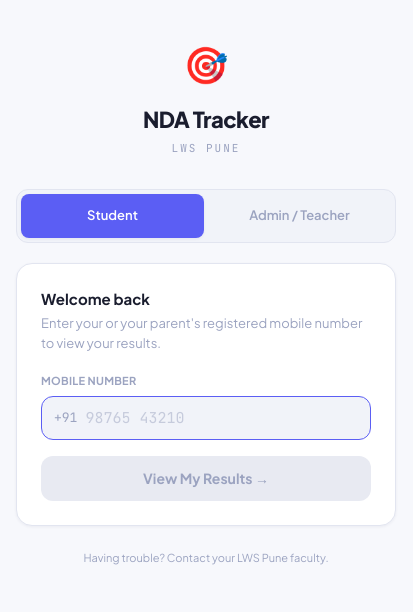
Test: LoginPage — Student tab › shows error on network failure during login
The width and height of the screenshot is (413, 612).
Type "9876543210" into the field with placeholder "98765 43210".
click(222, 418); type("9876543210")  # box [85, 407, 358, 429]
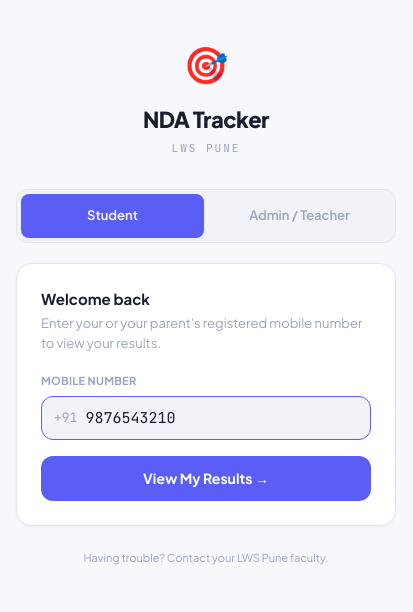
Click the button "View My Results →".
click(206, 479)  # box [41, 456, 371, 501]
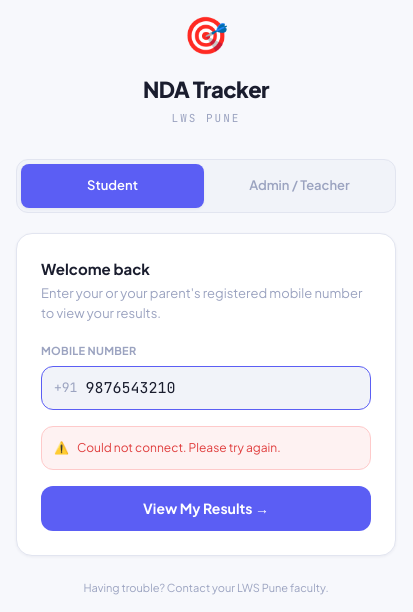
Result: the text "Could not connect. Please try again." is shown at [77, 439, 281, 457]
